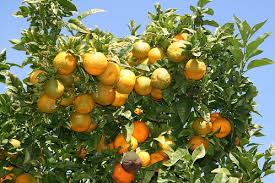orange: (53, 52, 77, 76), (150, 65, 172, 91), (85, 52, 108, 75), (183, 57, 206, 80), (127, 117, 149, 141), (99, 60, 120, 85), (117, 66, 135, 95), (165, 41, 187, 63), (44, 75, 64, 99), (35, 94, 60, 112), (95, 83, 114, 105), (68, 112, 91, 130), (192, 117, 214, 135), (134, 73, 151, 96), (75, 93, 94, 113), (132, 40, 149, 58)
